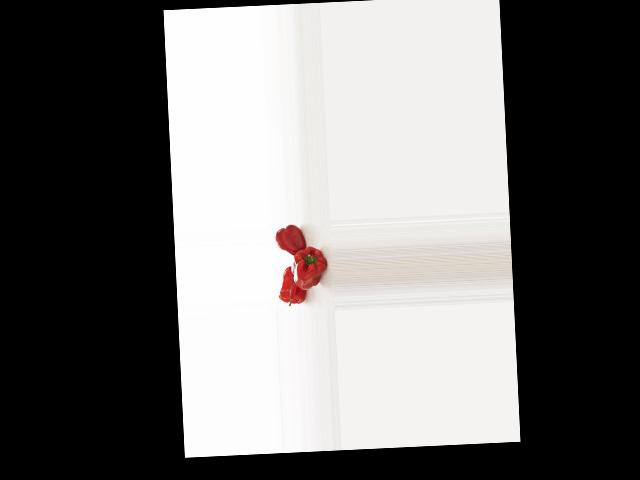bell_pepper: (274, 222, 307, 254)
